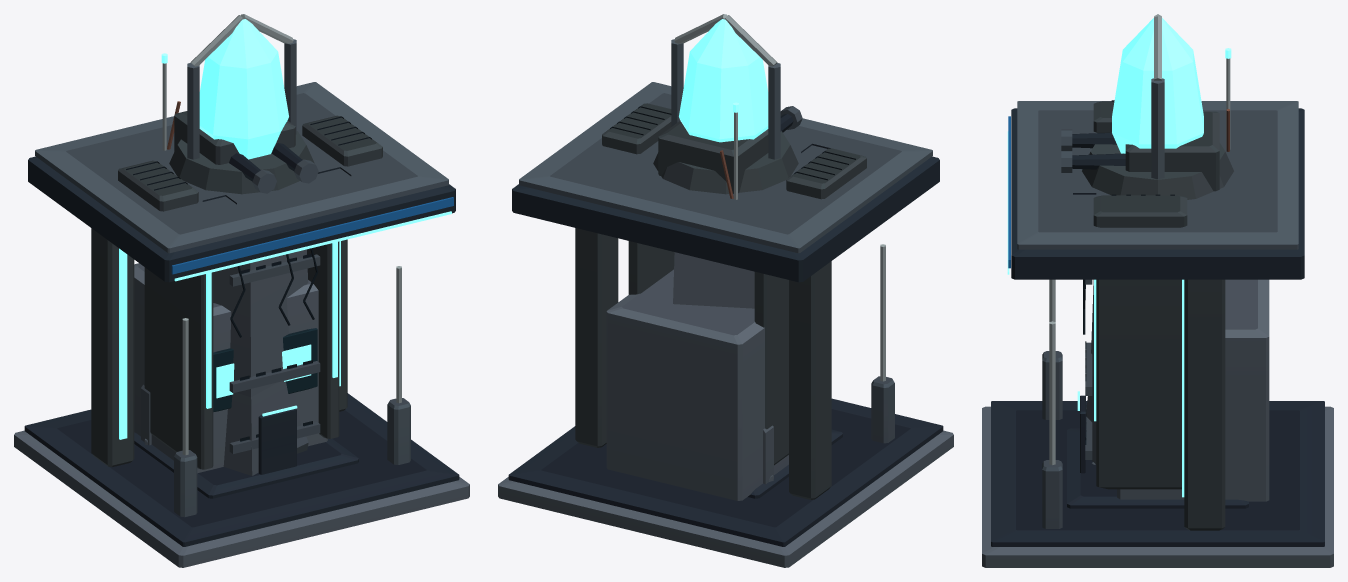
File: ap_estructuras.glb
The picture shows the model from 3 angles, left to right: view 1: azimuth 30°, elevation 25°; view 2: azimuth 150°, elevation 25°; view 3: azimuth 270°, elevation 25°; orthographic projection. The views are drawn at different scales.
Parts seen in each view (by area): view 1: nexo_azul__structure, torre_azul_1__structure, torre_azul_2__structure, torre_azul_3__structure; view 2: nexo_azul__structure, torre_azul_1__structure, torre_azul_3__structure; view 3: nexo_azul__structure, torre_azul_1__structure.
Part boxes in pixels (x1,y1,x2,y2): nexo_azul__structure: [14, 14, 469, 567]; torre_azul_1__structure: [134, 53, 358, 498]; torre_azul_2__structure: [167, 101, 318, 337]; torre_azul_3__structure: [141, 384, 308, 453]; nexo_azul__structure: [498, 14, 953, 567]; torre_azul_1__structure: [628, 102, 842, 498]; torre_azul_3__structure: [763, 425, 773, 484]; nexo_azul__structure: [982, 14, 1333, 567]; torre_azul_1__structure: [1061, 48, 1248, 508].
Bounding box in the file's own units: 6 × 9.07 × 6.
Materials: 16 (16 with a texture image).
